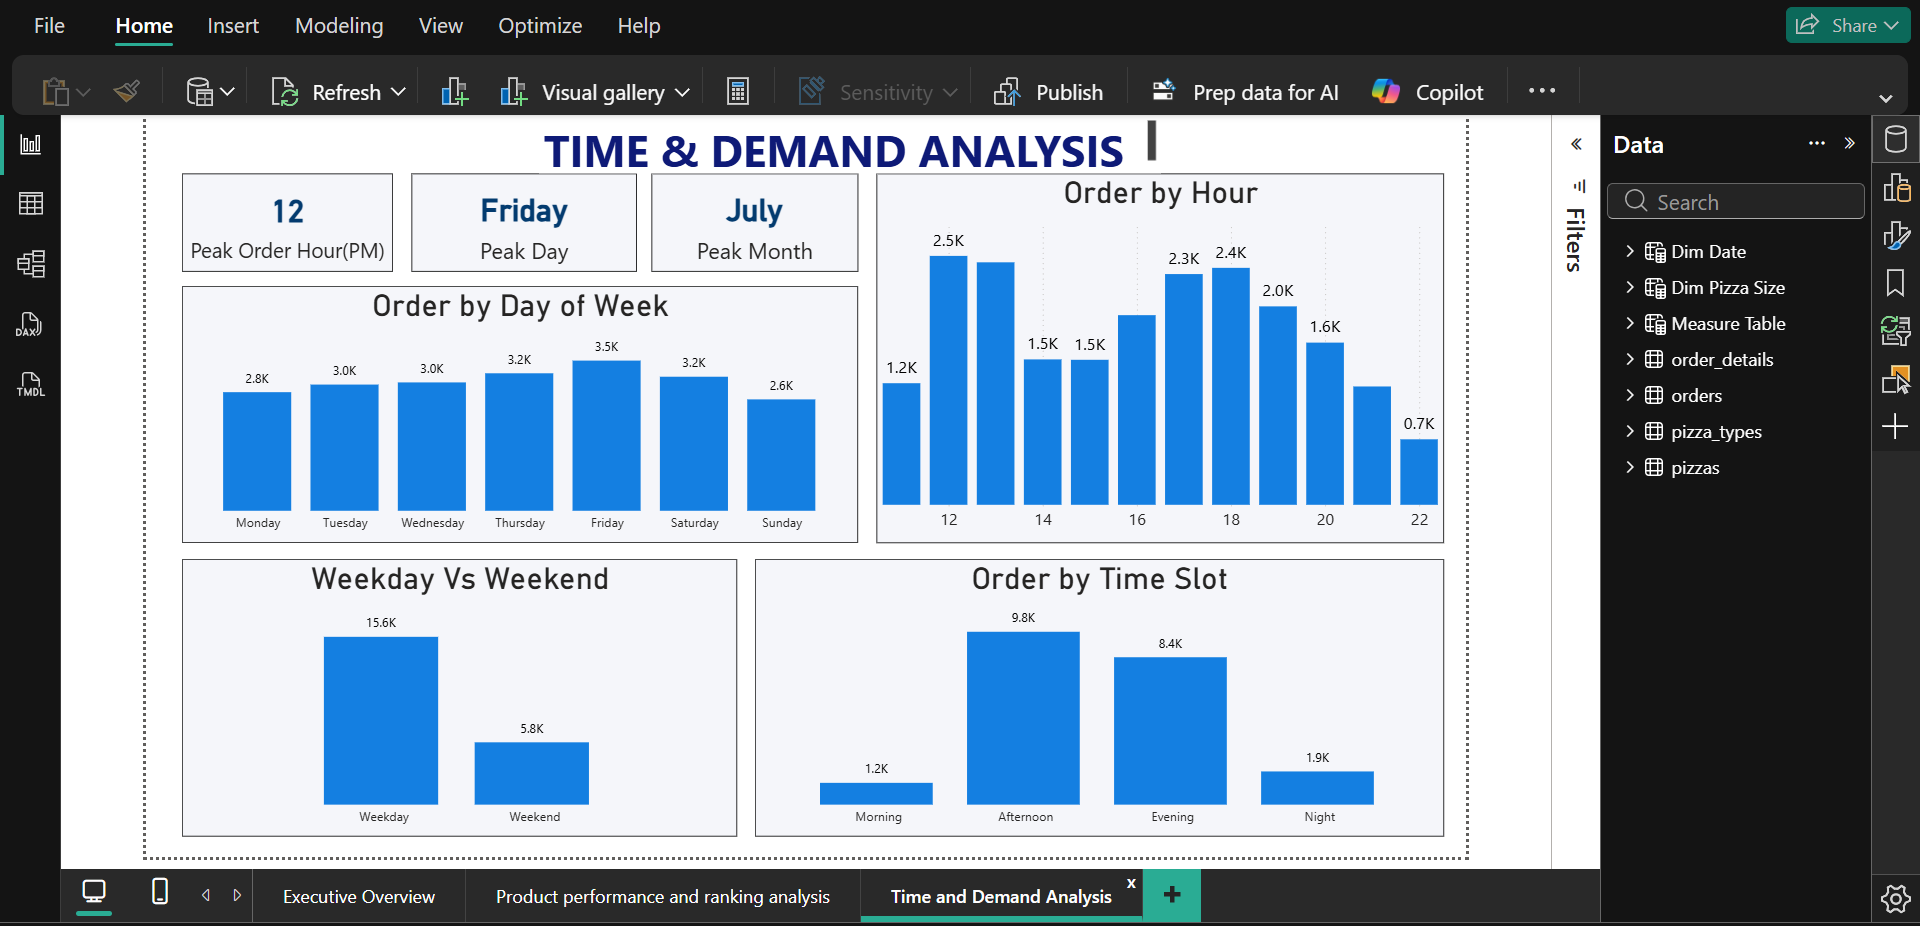

The page's visual inventory and layout, read from the dashboard file:
{"tool":"powerbi","page":{"name":"Time and Demand Analysis","canvas":[1280,720],"ordinal":2},"visuals":[{"type":"card","fields":{"Values":["Measure Table.Peak Order Hour"]},"box":[34.4,56.7,204.6,95.2],"z":0},{"type":"columnChart","title":" Order by Day of Week","fields":{"Y":["Measure Table.Total Order"],"Category":["orders.Day Name"]},"box":[34.4,166.1,656.2,249.1],"z":1000},{"type":"columnChart","title":" Order by Hour","fields":{"Y":["Measure Table.Total Order"],"Category":["orders.Order Hour"]},"box":[708.9,56.7,550.9,358.5],"z":2000},{"type":"columnChart","title":"Weekday Vs Weekend","fields":{"Category":["orders.Day Type"],"Y":["Measure Table.Total Order"]},"box":[34.4,431.4,538.7,269.4],"z":3000},{"type":"card","fields":{"Values":["Measure Table.Peak Day"]},"box":[257.2,56.7,218.7,95.2],"z":4000},{"type":"card","fields":{"Values":["Measure Table.Peak Month"]},"box":[490.1,56.7,200.5,95.2],"z":5000},{"type":"textbox","box":[380.8,0,603.5,56.7],"z":6000},{"type":"columnChart","title":" Order by Time Slot","fields":{"Y":["Measure Table.Total Order"],"Category":["orders.Time Slot"]},"box":[591.4,431.4,668.4,269.4],"z":7000}]}

Visuals, with their boxes on the page's 1280x720 design canvas (x1, y1, x2, y2). These are canvas units, not pixel positions in the 1920x926 screenshot, which may show the page scaled, cropped or inside an application window:
card - Measure Table.Peak Order Hour: bbox(34, 57, 239, 152)
" Order by Day of Week" columnChart: bbox(34, 166, 691, 415)
" Order by Hour" columnChart: bbox(709, 57, 1260, 415)
"Weekday Vs Weekend" columnChart: bbox(34, 431, 573, 701)
card - Measure Table.Peak Day: bbox(257, 57, 476, 152)
card - Measure Table.Peak Month: bbox(490, 57, 691, 152)
textbox: bbox(381, 0, 984, 57)
" Order by Time Slot" columnChart: bbox(591, 431, 1260, 701)
